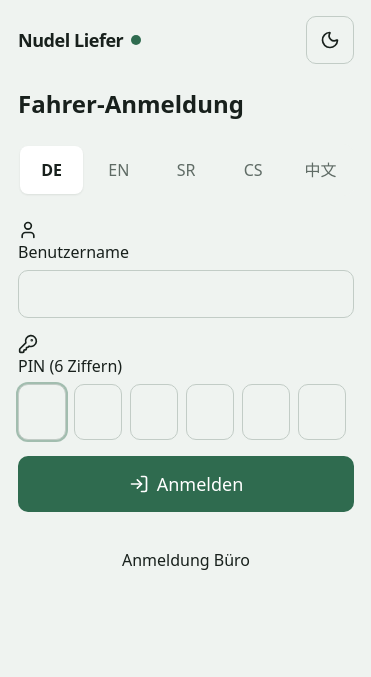
Test: driver login › names the wrong credentials under the PIN field when the server rejects the login
The width and height of the screenshot is (371, 677).
Type "fahrer-de" into the field labelled "Benutzername" at (186, 294), box 18,270 -> 354,318
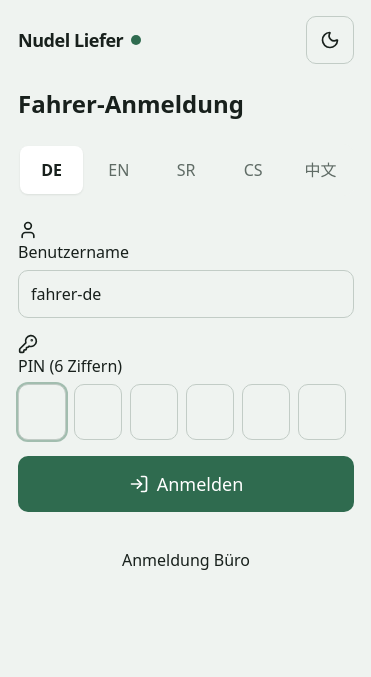
Type "000000" into the password field named "pin" at (182, 412), box 18,384 -> 346,440
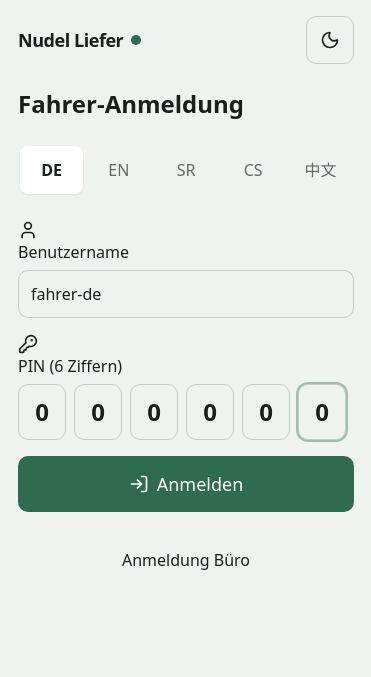
Submit the form with test id "driver-login-form", box 18,220 -> 354,512
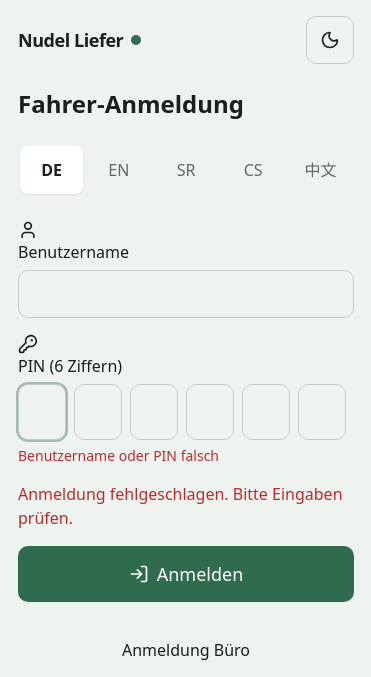
Result: the message with test id "login-error" shows "fehlgeschlagen" at 18,483 -> 342,529
Result: the text "Benutzername oder PIN falsch" is shown at 18,446 -> 219,465
